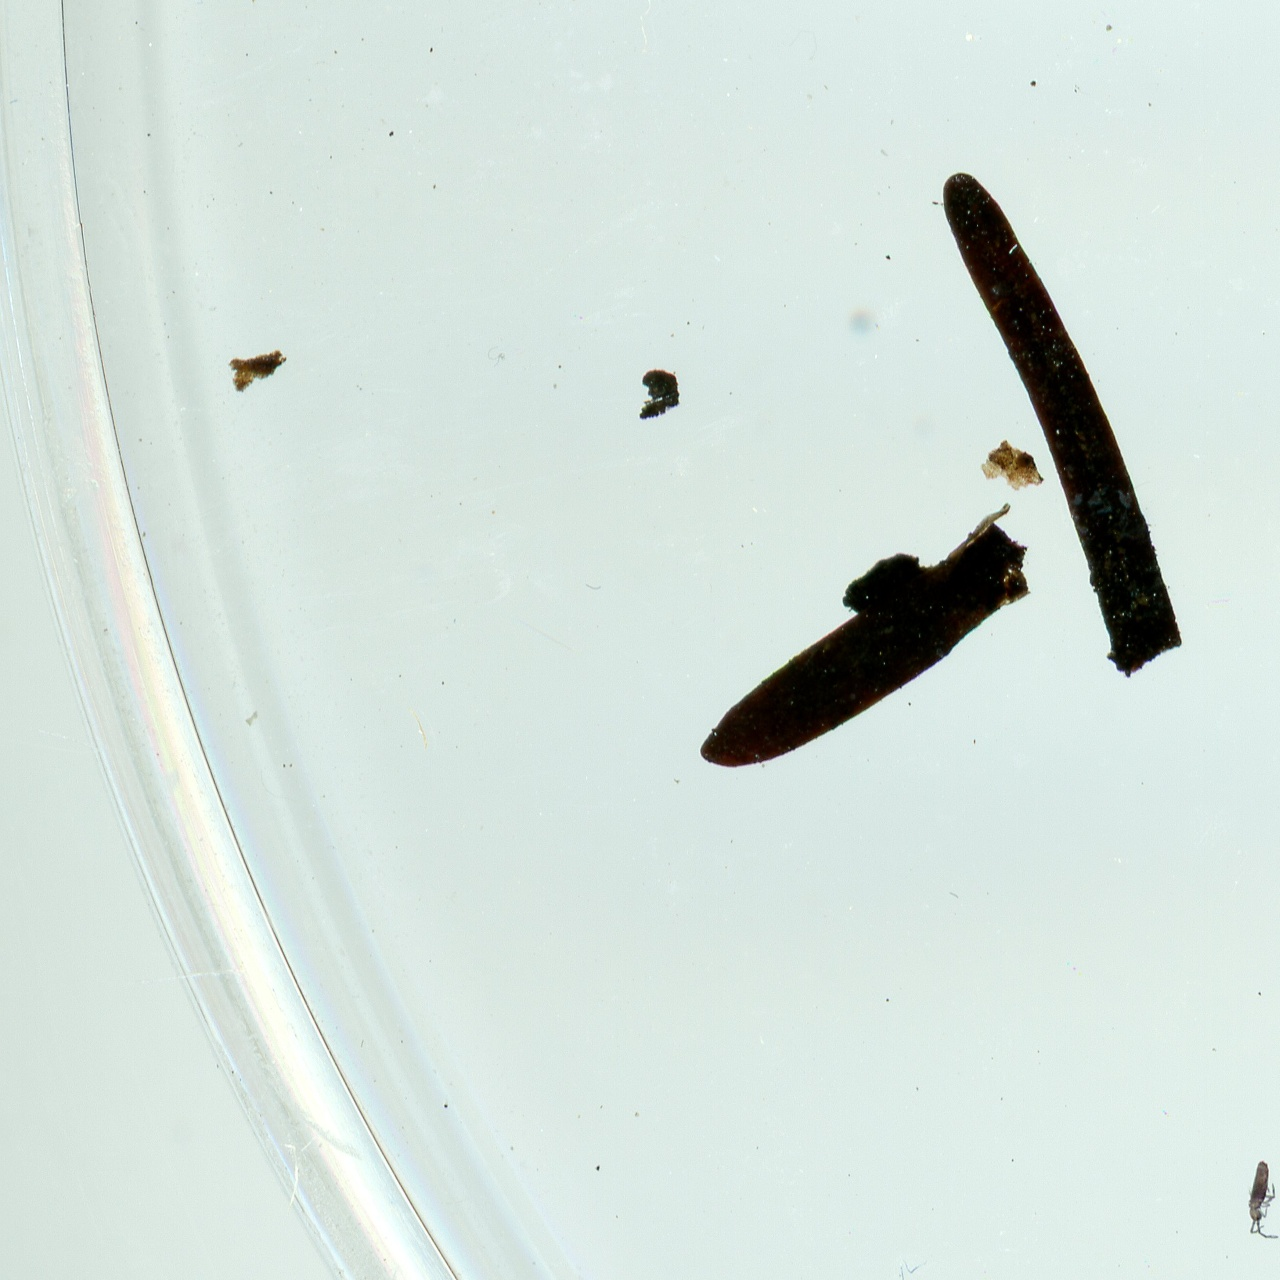arthropod: (1233, 1141, 1280, 1253)
